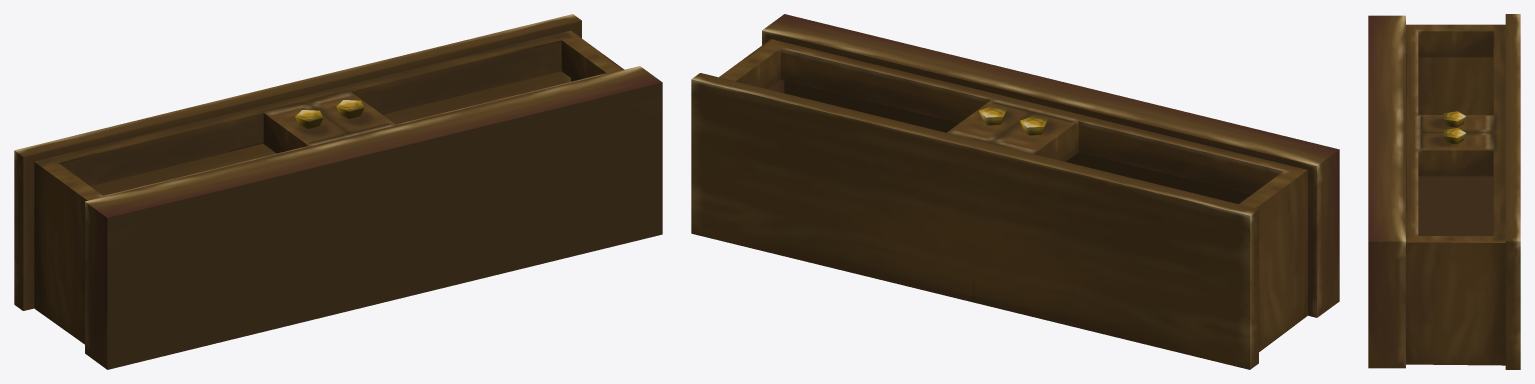
File: props_book_shelf_small.fbx
3 renders of one model, left to right at view 1: azimuth 30°, elevation 25°; view 2: azimuth 150°, elevation 25°; view 3: azimuth 270°, elevation 25°, orthographic. The views are drawn at different scales.
Visible parts, largest first — view 1: book_shelf_small; view 2: book_shelf_small; view 3: book_shelf_small.
Boxes of the visible parts, x1=… form: book_shelf_small: x1=14, y1=14, x2=662, y2=369; book_shelf_small: x1=691, y1=14, x2=1339, y2=369; book_shelf_small: x1=1368, y1=14, x2=1520, y2=369.
Bounding box in the file's own units: 2.01 × 0.5372 × 0.5706.
1 material, 1 textured.
